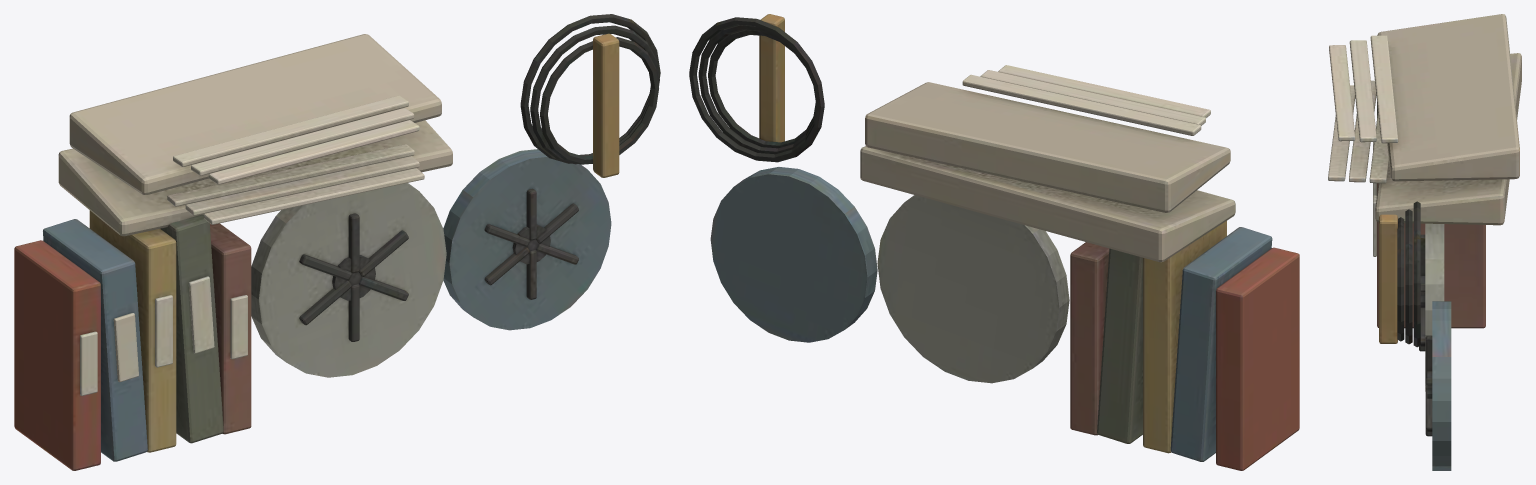
File: shelfwall-clutter-b.glb
3 views of the same model, side by side, from view 1: azimuth 30°, elevation 25°; view 2: azimuth 150°, elevation 25°; view 3: azimuth 270°, elevation 25° (orthographic). The views are drawn at different scales.
Visible parts, largest first — view 1: case-baked; view 2: case-baked; view 3: case-baked.
Part boxes in pixels (x1=…): case-baked: x1=14, y1=14, x2=660, y2=470; case-baked: x1=689, y1=14, x2=1299, y2=470; case-baked: x1=1328, y1=14, x2=1521, y2=470.
Size of the model in its own units: 0.9405 by 0.4572 by 0.2844.
Materials: 1 (1 with a texture image).
